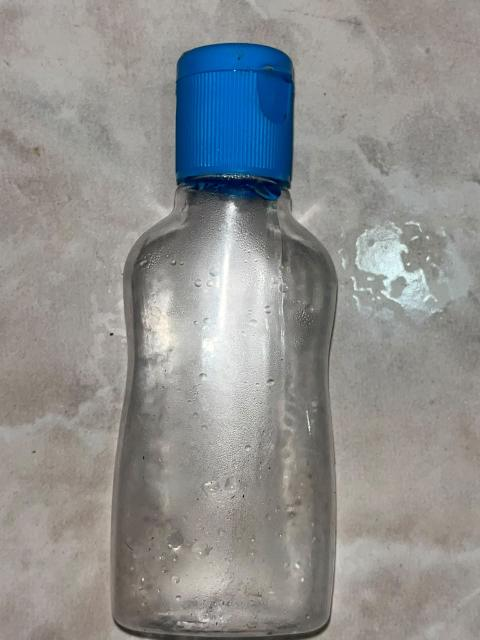PET: (107, 27, 368, 639)
